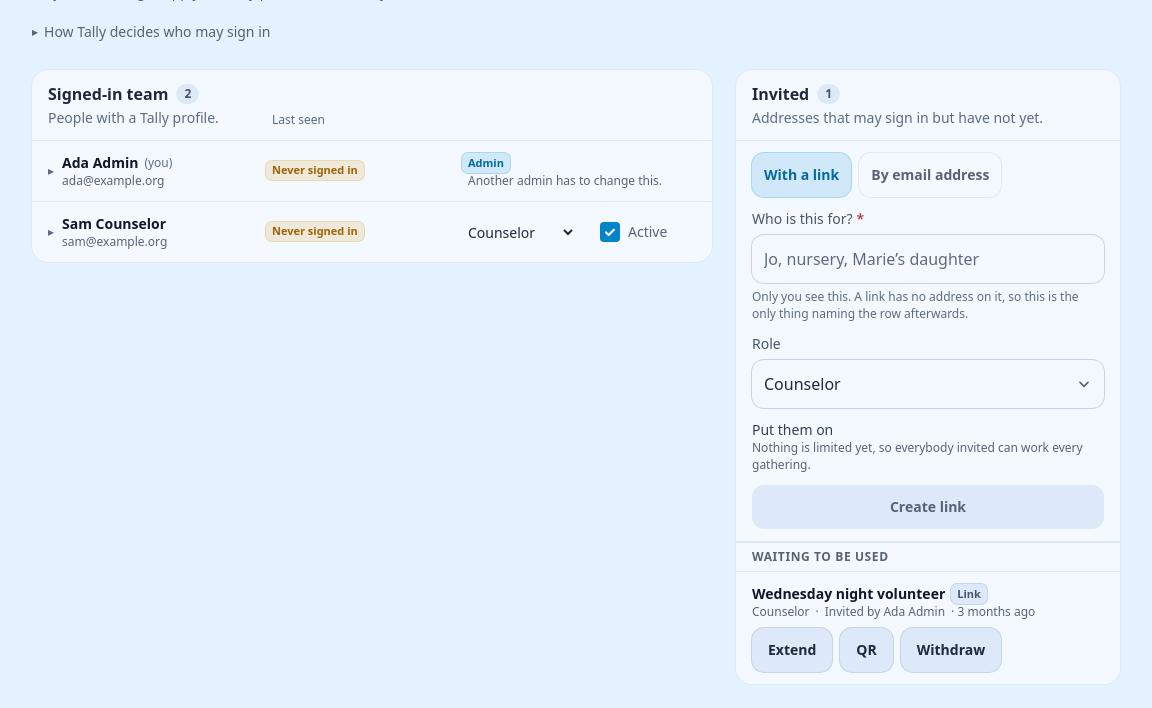
Scenario: TeamPage — withdrawing an invitation › names the link it is about to withdraw
(page scrolled)
Click the button "Withdraw".
click(951, 650)  # box [901,628,1001,672]
(page scrolled)
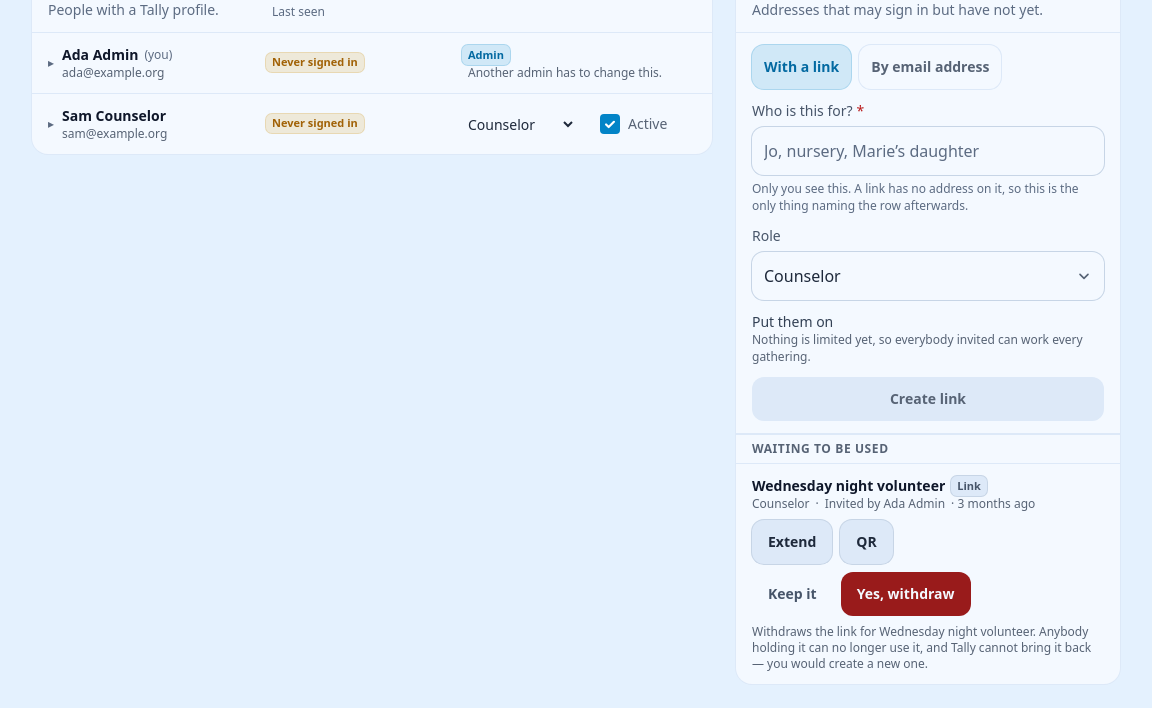
expect the 1st message shows "Withdraws the link for Wednesday night volunteer.": met, box [752,623,1091,672]
